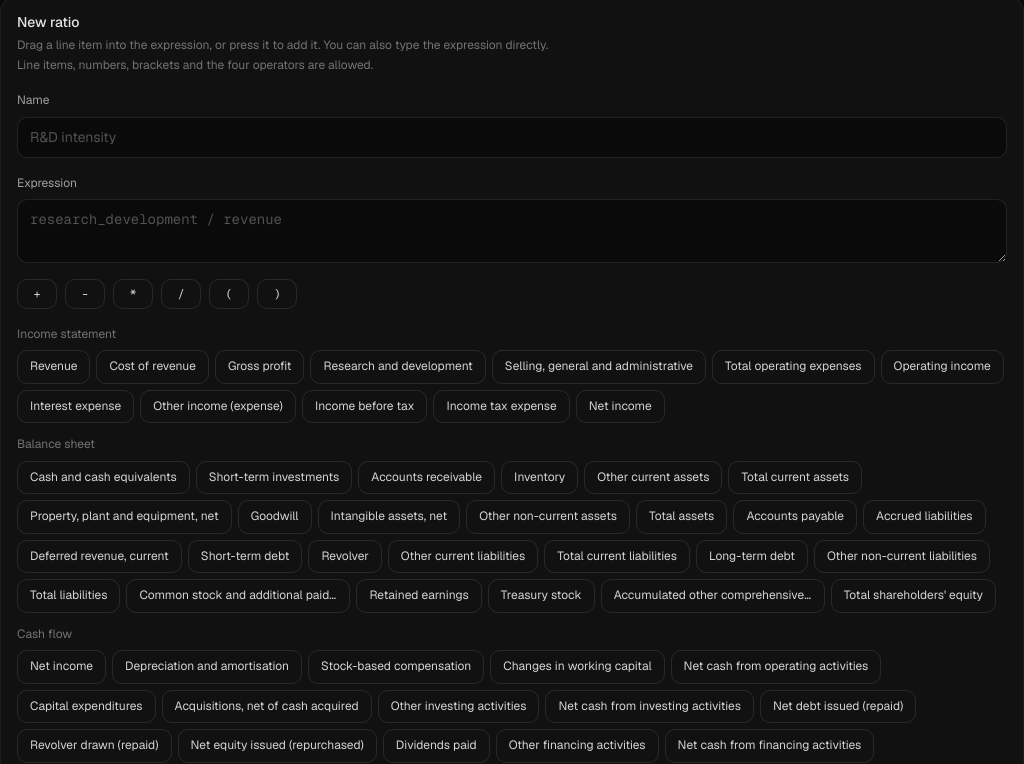
the live preview › shows a value per period before anything is saved
The width and height of the screenshot is (1024, 764).
Step 1. Type "gross_profit / revenue" into the text box labelled "Expression" → (512,231), box [17,199,1007,262]
(page scrolled)
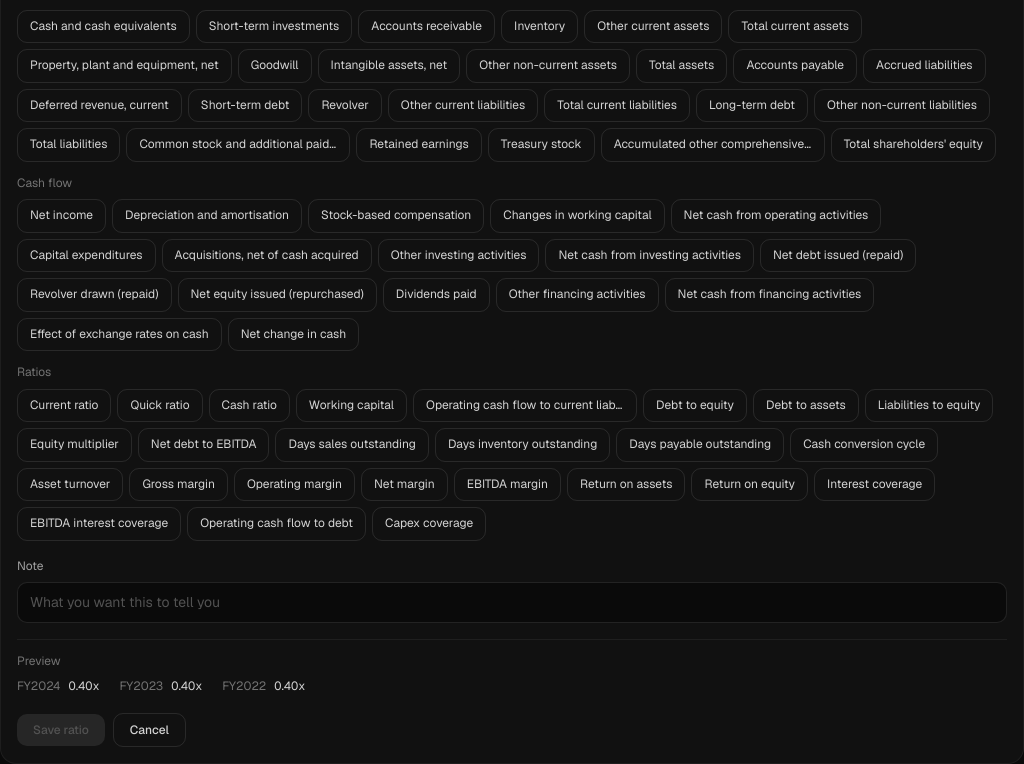
Check: the text "FY2024" is shown, box [17,677,60,697]
Check: the text "0.40x" is shown 3 times, box [68,677,100,697]; [171,677,202,697]; [274,677,305,697]
